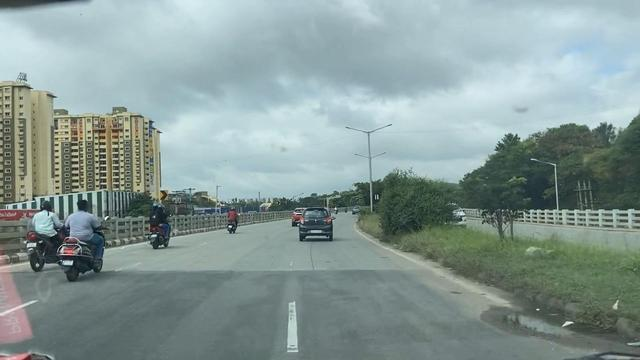LMV: (63, 204, 103, 267), (33, 205, 55, 260), (299, 207, 332, 238), (149, 202, 172, 241), (228, 207, 239, 233)
